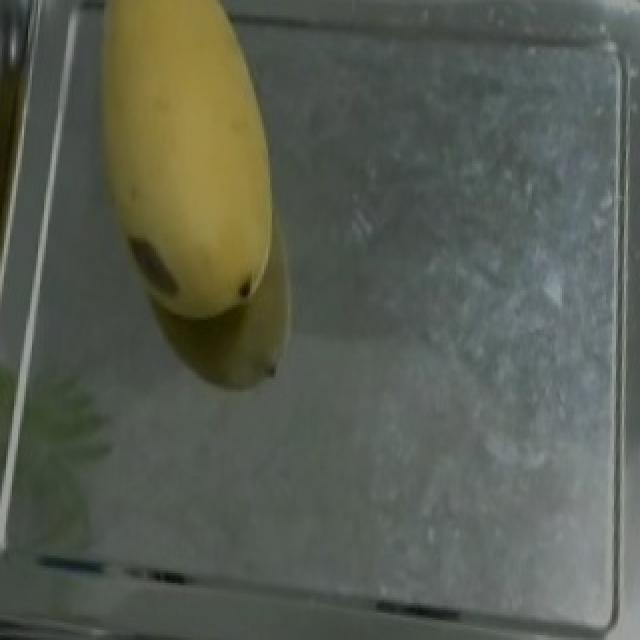fruit: (70, 2, 300, 340)
